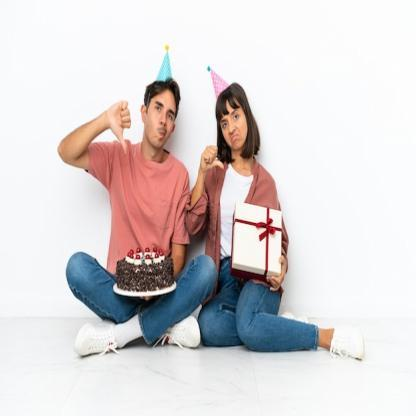thumb_down: (103, 95, 134, 159), (198, 141, 224, 175)
